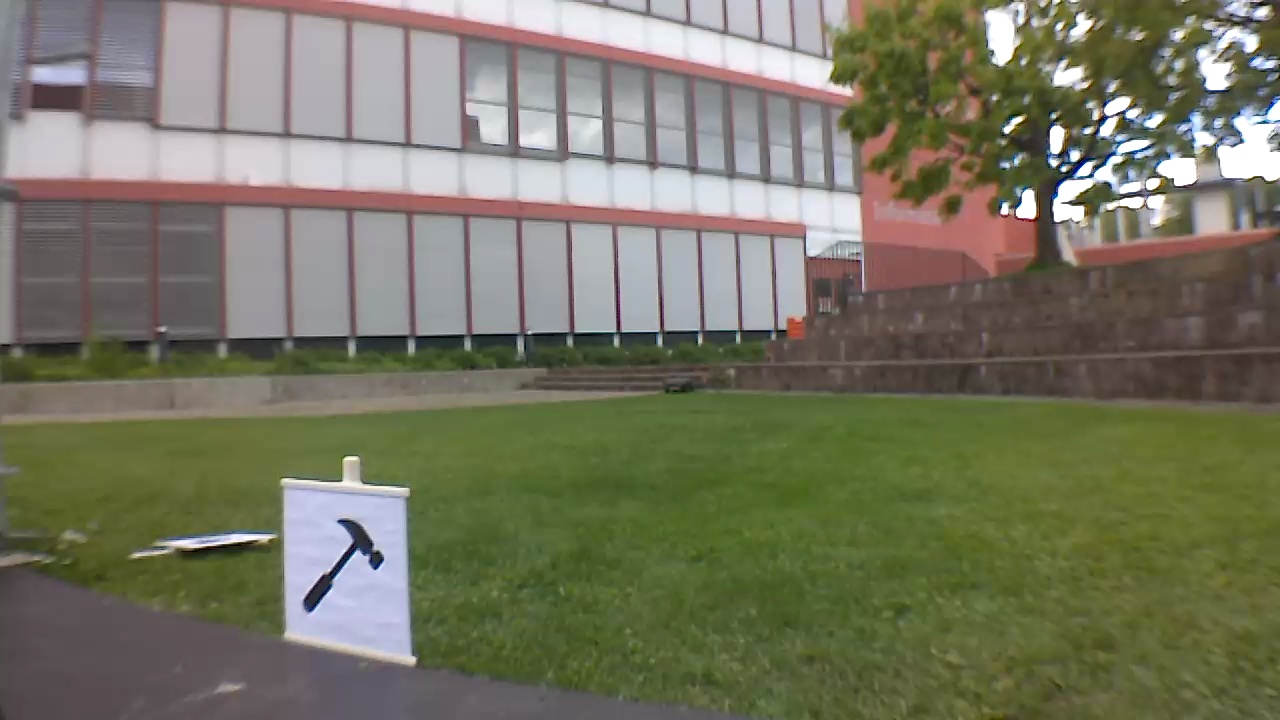hammer: (294, 511, 388, 620)
